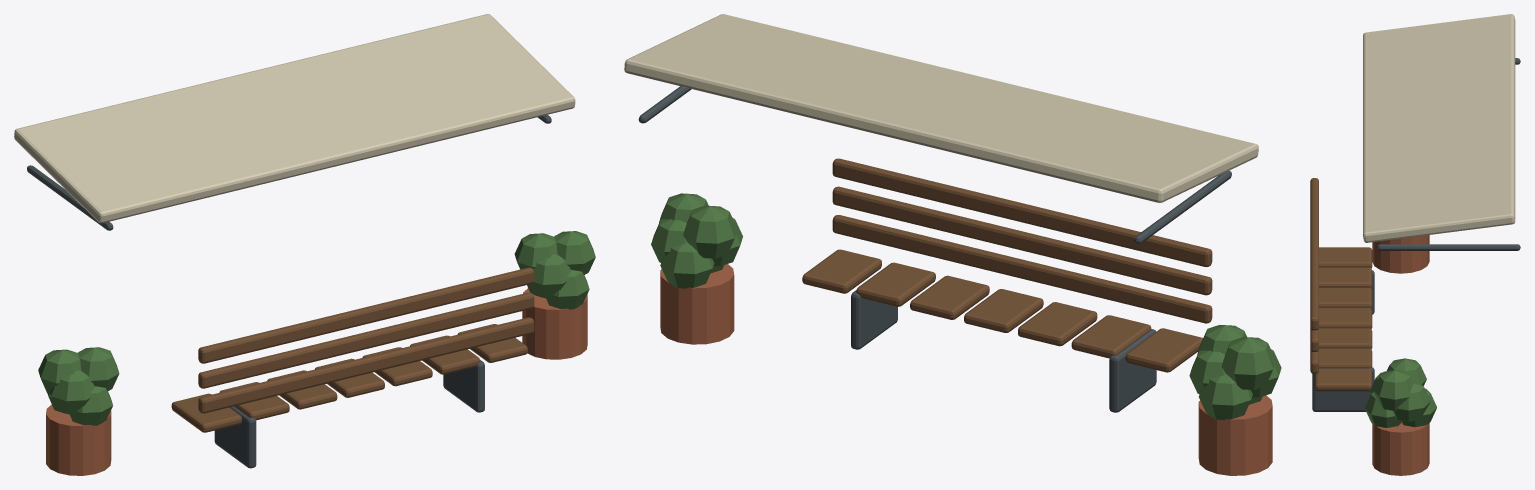
The model's file is shopfront-authored.glb.
3 views of the same model, side by side, from view 1: azimuth 30°, elevation 25°; view 2: azimuth 150°, elevation 25°; view 3: azimuth 270°, elevation 25° (orthographic). The views are drawn at different scales.
Visible parts, largest first — view 1: Canvas canopy, Bench back, Bench back.001, Bench back.002, Cylinder, Cylinder.001, Bench foot, Bench foot.001, Seat slat, Sphere.004, Sphere.002, Sphere.008 (+12 smaller); view 2: Canvas canopy, Bench back.001, Bench back, Bench back.002, Cylinder.001, Cylinder, Seat slat.006, Seat slat.002, Seat slat.004, Seat slat.003, Seat slat.005, Sphere.005 (+12 smaller); view 3: Canvas canopy, Cylinder.001, Cylinder, Bench back.002, Seat slat.006, Bench foot.001, Sphere.008, Seat slat.001, Seat slat, Seat slat.004, Seat slat.003, Seat slat.005 (+6 smaller).
Part boxes in pixels (x1,y1,x2,y2): Canvas canopy: (14,14,575,223); Bench back: (198,317,534,413); Bench back.001: (198,292,534,388); Bench back.002: (198,267,534,363); Cylinder: (46,404,111,475); Cylinder.001: (522,288,587,359); Bench foot: (214,406,256,468); Bench foot.001: (443,360,484,412); Seat slat: (171,393,241,432); Sphere.004: (50,370,94,414); Sphere.002: (78,347,119,390); Sphere.008: (554,231,595,274); Canvas canopy: (624,14,1258,202); Bench back.001: (832,186,1212,295); Bench back: (832,215,1212,323); Bench back.002: (832,158,1212,267); Cylinder.001: (660,264,734,344); Cylinder: (1198,395,1272,475); Seat slat.006: (802,249,881,293); Seat slat.002: (1018,302,1097,346); Seat slat.004: (910,275,989,319); Seat slat.003: (964,289,1043,332); Seat slat.005: (856,262,935,306); Sphere.005: (1221,337,1275,389); Canvas canopy: (1363,14,1515,242); Cylinder.001: (1372,423,1429,475); Cylinder: (1372,235,1429,273); Bench back.002: (1310,178,1318,330); Seat slat.006: (1314,368,1372,391); Bench foot.001: (1312,367,1374,411); Sphere.008: (1373,369,1413,410); Seat slat.001: (1319,267,1372,288); Seat slat: (1319,247,1372,268); Seat slat.004: (1319,328,1372,349); Seat slat.003: (1319,308,1372,328); Seat slat.005: (1319,348,1372,368).
Size of the model in its own units: 5.74 by 2.87 by 2.19.
